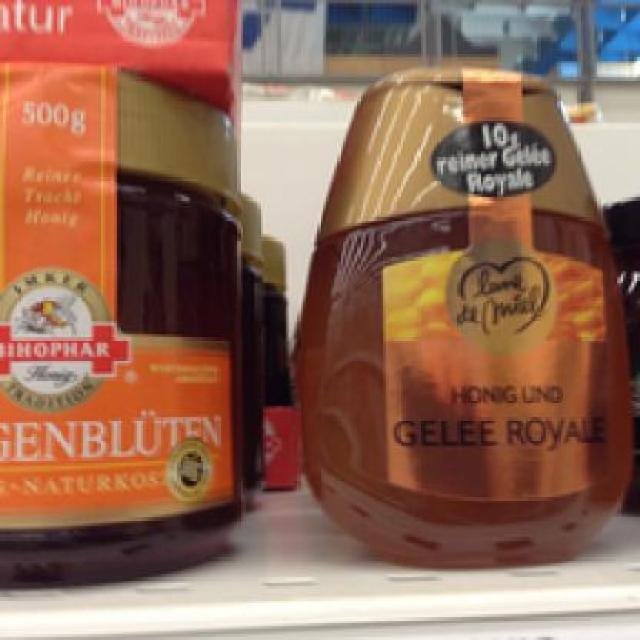Honey: (288, 62, 638, 572), (0, 57, 237, 583)
